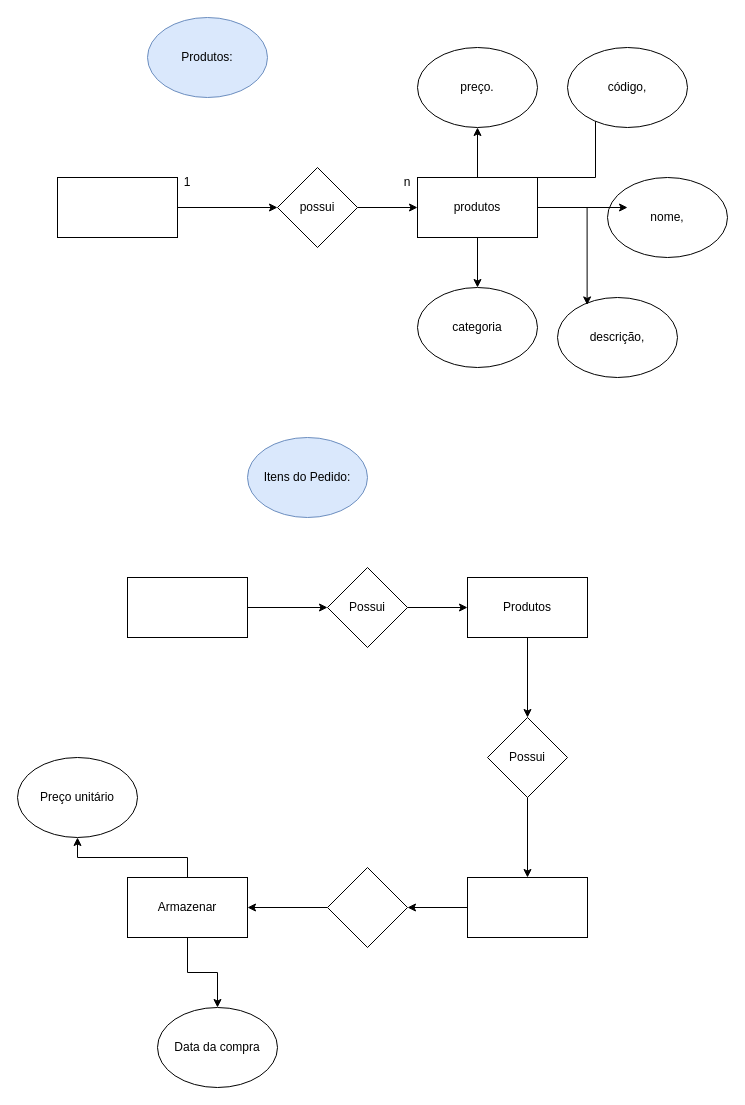
Image size: 745x1105. Some labels were removed from this diagram. The shapes that lost their labels are listed below. From the top down, each one's centre as x and y in pixels, then its label:
At point (117, 207): "Empresa".
At point (187, 607): "Pedido".
At point (367, 907): "Precisa".
At point (527, 907): "Vários pedidos".
